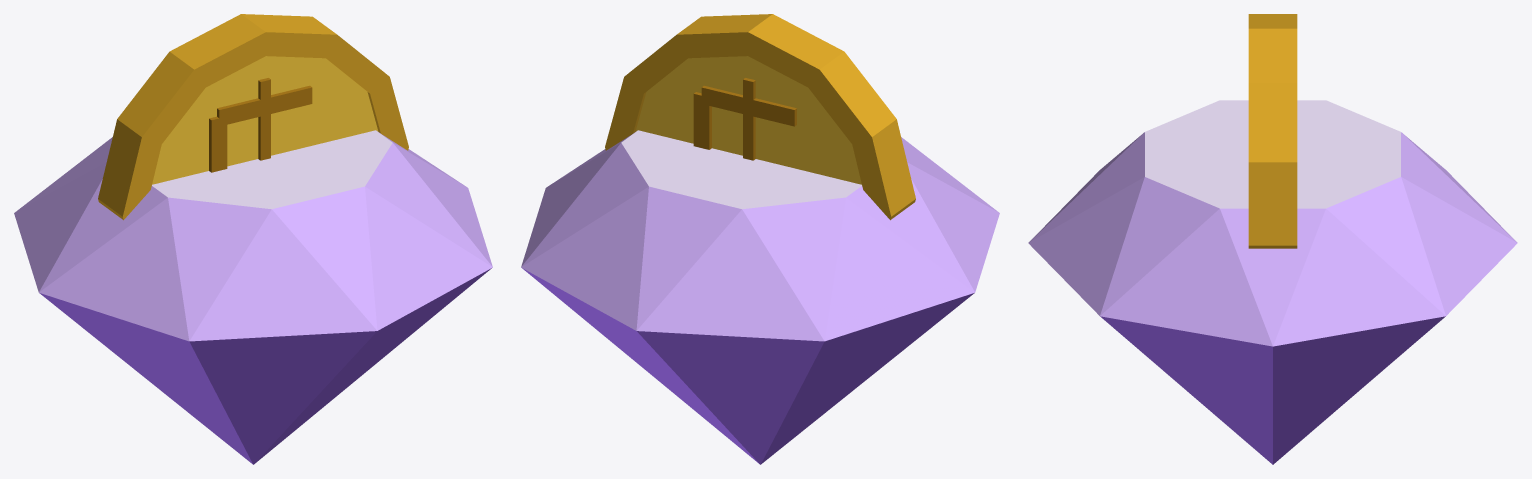
Rendered from pickups.glb.
3 renders of one model, left to right at view 1: azimuth 30°, elevation 25°; view 2: azimuth 150°, elevation 25°; view 3: azimuth 270°, elevation 25°, orthographic.
Visible parts, largest first — view 1: Stoken, Coin; view 2: Stoken, Coin; view 3: Stoken, Coin.
Part boxes in pixels (bbox=[...]): Stoken: bbox=[14, 130, 492, 464]; Coin: bbox=[98, 14, 408, 220]; Stoken: bbox=[521, 130, 999, 464]; Coin: bbox=[605, 14, 915, 220]; Stoken: bbox=[1028, 100, 1517, 464]; Coin: bbox=[1248, 14, 1297, 248].
Size of the model in its own units: 0.6 by 0.59 by 0.6.
